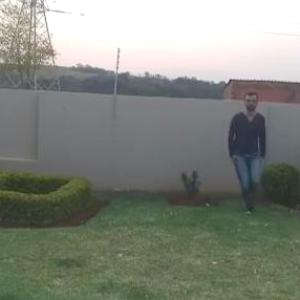follow: (217, 92, 267, 204)
